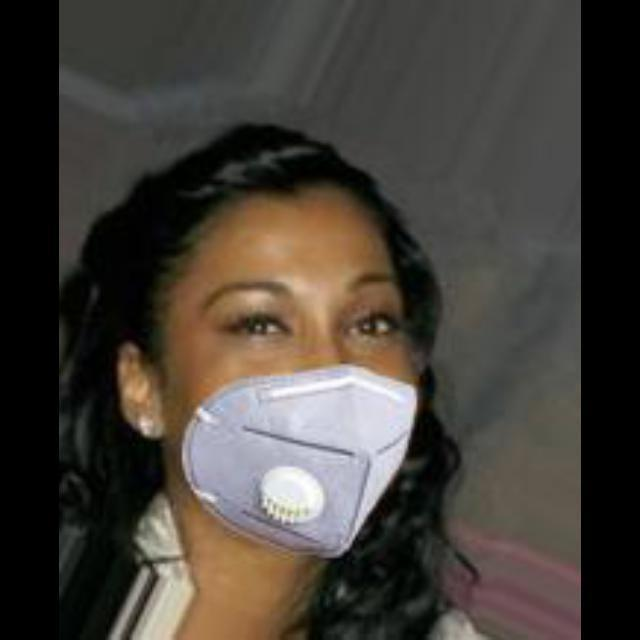suspicion: (120, 179, 457, 557)
